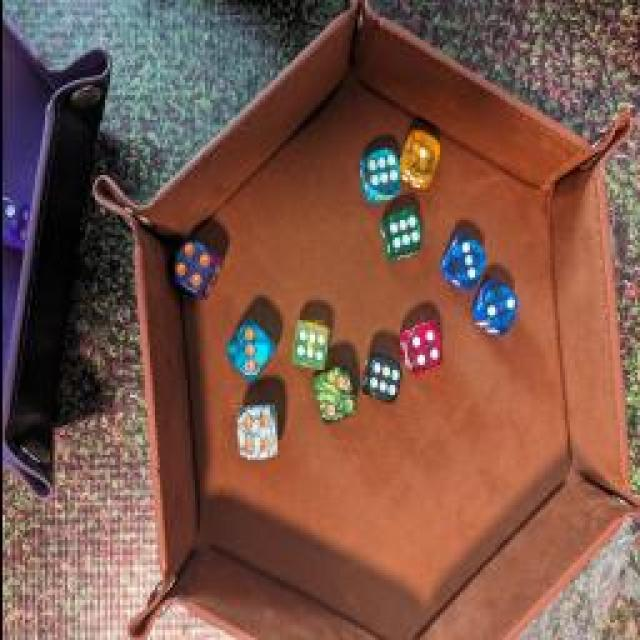dice_1: (399, 129, 441, 189)
dice_2: (468, 279, 520, 346), (312, 365, 356, 430)
dice_3: (440, 229, 485, 299), (226, 318, 274, 382)
dice_4: (166, 234, 224, 304), (231, 402, 281, 472), (396, 322, 446, 376)
dice_6: (354, 152, 404, 206), (288, 315, 334, 373), (358, 352, 404, 406), (378, 206, 422, 259)
